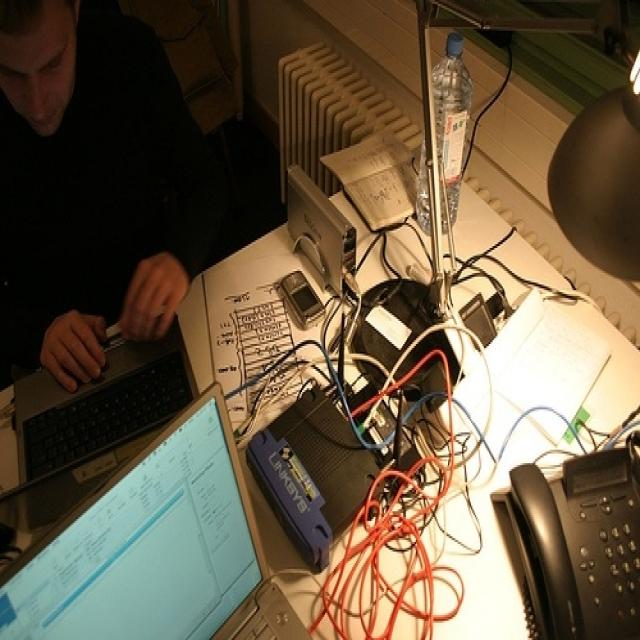Cable: (254, 285, 528, 640)
